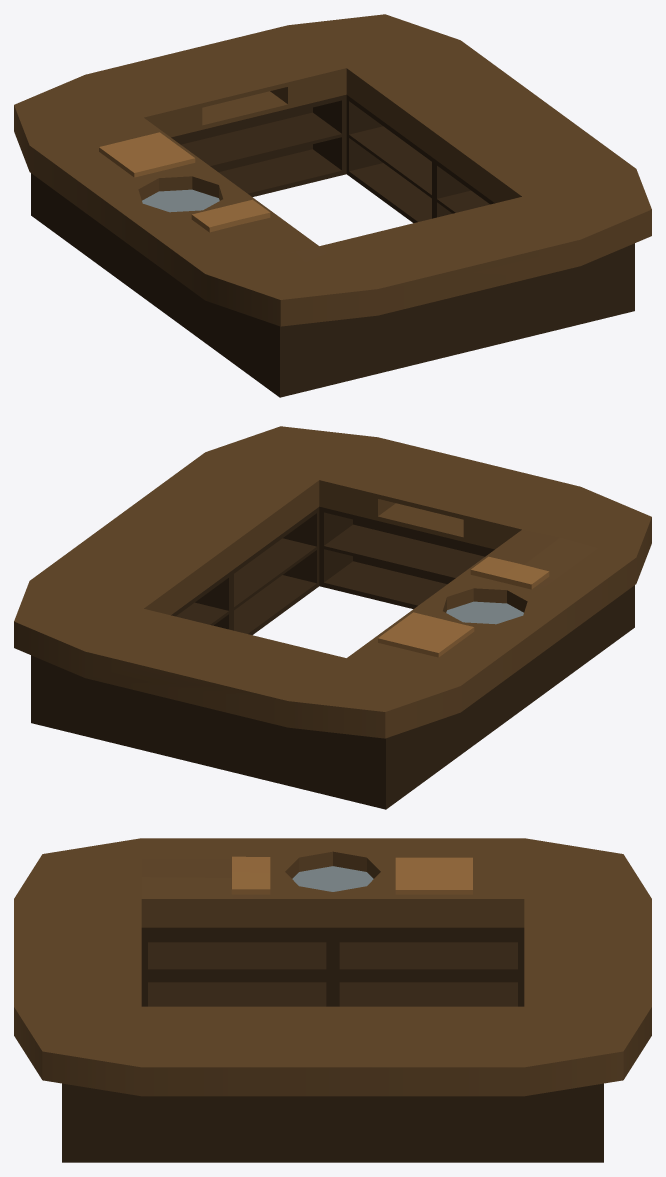
Rendered from Counter (1).fbx.
3 renders of one model, top to bottom at view 1: azimuth 30°, elevation 25°; view 2: azimuth 150°, elevation 25°; view 3: azimuth 270°, elevation 25°, orthographic. The views are drawn at different scales.
Parts seen in each view (by area): view 1: Counter; view 2: Counter; view 3: Counter.
Boxes of the visible parts, x1=… form: Counter: x1=14, y1=14, x2=651, y2=397; Counter: x1=14, y1=426, x2=651, y2=809; Counter: x1=14, y1=838, x2=651, y2=1162.
Size of the model in its own units: 34 by 8.42 by 40.
1 material, 1 textured.
